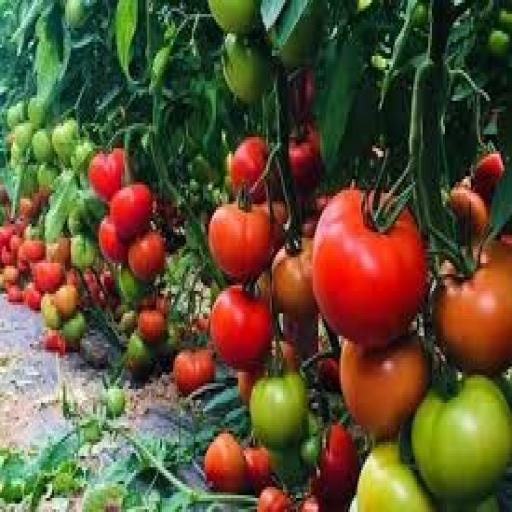tomato: (313, 191, 426, 346), (412, 375, 511, 500), (434, 241, 511, 374), (339, 339, 430, 439), (211, 286, 273, 372), (358, 443, 433, 511), (209, 205, 273, 282), (250, 373, 307, 450), (313, 423, 359, 506), (272, 238, 316, 318), (224, 34, 275, 103), (278, 0, 325, 67), (203, 431, 247, 492), (110, 182, 152, 240), (230, 138, 268, 201), (289, 126, 323, 195), (449, 185, 489, 240), (129, 230, 165, 282), (174, 350, 215, 394), (270, 445, 309, 489), (209, 0, 260, 33), (90, 152, 124, 201), (472, 152, 504, 204), (257, 202, 288, 254), (283, 314, 318, 360), (289, 68, 314, 125), (99, 216, 128, 262), (125, 333, 154, 377), (244, 448, 271, 492), (53, 118, 78, 165), (32, 261, 65, 293), (118, 266, 145, 304), (138, 311, 167, 344), (62, 311, 87, 349), (71, 236, 98, 271), (440, 496, 500, 511), (237, 370, 262, 405), (53, 286, 80, 318), (300, 496, 357, 511), (257, 487, 292, 511), (300, 434, 322, 470), (71, 140, 94, 173), (32, 129, 53, 165), (317, 359, 340, 391), (41, 294, 61, 330), (47, 238, 70, 268), (64, 0, 89, 27), (103, 387, 126, 416), (488, 28, 510, 58), (43, 331, 67, 358), (19, 238, 46, 262), (28, 96, 48, 128), (68, 202, 87, 235), (14, 121, 33, 153), (280, 342, 299, 372), (38, 163, 59, 190), (6, 101, 26, 128), (23, 283, 42, 310), (412, 0, 430, 27), (118, 311, 137, 335), (19, 196, 37, 221), (110, 149, 128, 173), (99, 269, 117, 293), (0, 224, 16, 249), (498, 3, 511, 33), (2, 266, 20, 285), (300, 496, 322, 511), (6, 286, 22, 304), (0, 247, 16, 265), (10, 236, 22, 257)
